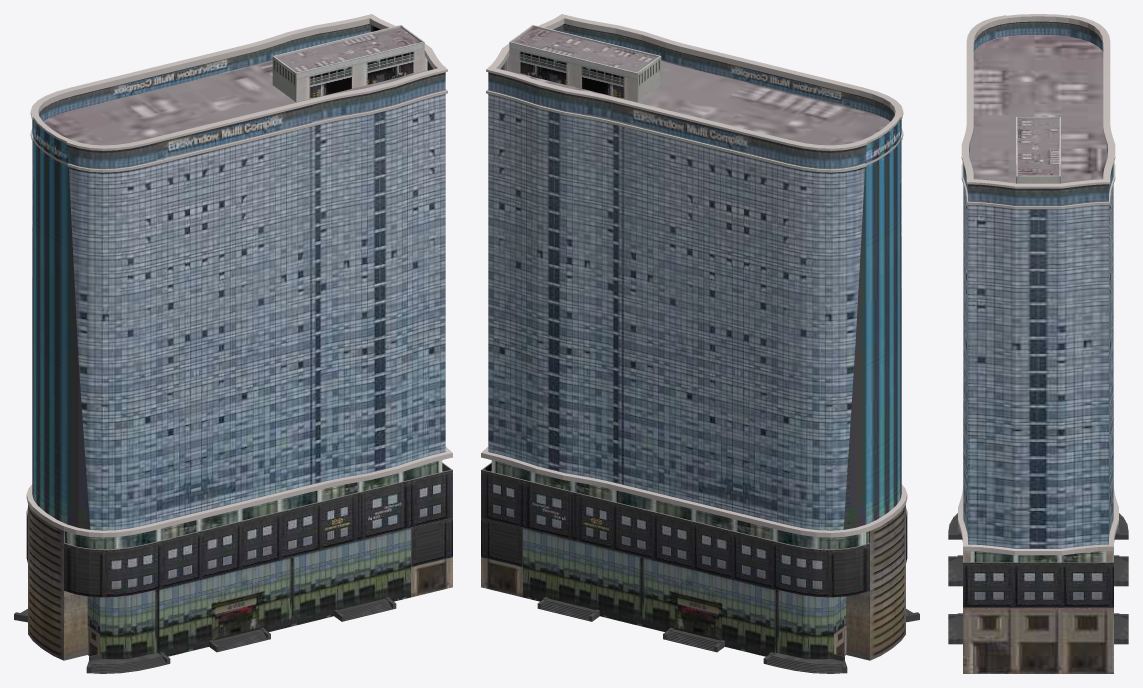
3 views of the same model, side by side, from view 1: azimuth 30°, elevation 25°; view 2: azimuth 150°, elevation 25°; view 3: azimuth 270°, elevation 25° (orthographic). The views are drawn at different scales.
Visible parts, largest first — view 1: HN791_EurowindowMultiComplex; view 2: HN791_EurowindowMultiComplex; view 3: HN791_EurowindowMultiComplex.
Boxes of the visible parts, x1=… form: HN791_EurowindowMultiComplex: x1=14, y1=14, x2=452, y2=673; HN791_EurowindowMultiComplex: x1=481, y1=14, x2=919, y2=673; HN791_EurowindowMultiComplex: x1=948, y1=14, x2=1128, y2=673.
Bounding box in the file's own units: 80 × 105 × 34.6.
1 material, 1 textured.
